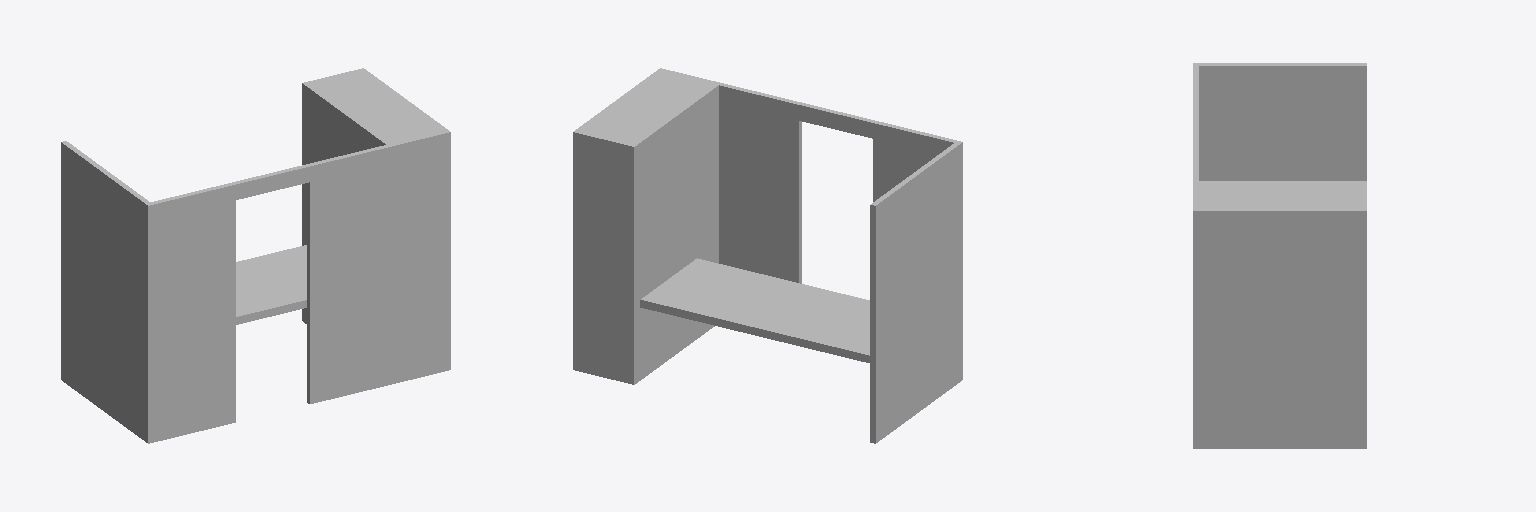
File: bed.obj
3 views of the same model, side by side, from view 1: azimuth 30°, elevation 25°; view 2: azimuth 150°, elevation 25°; view 3: azimuth 270°, elevation 25° (orthographic).
Parts seen in each view (by area): view 1: Cube.002; view 2: Cube.002; view 3: Cube.002.
Part boxes in pixels (bbox=[...]): Cube.002: bbox=[61, 68, 450, 443]; Cube.002: bbox=[573, 68, 962, 443]; Cube.002: bbox=[1193, 63, 1366, 448].
Size of the model in its own units: 4 by 3 by 2.